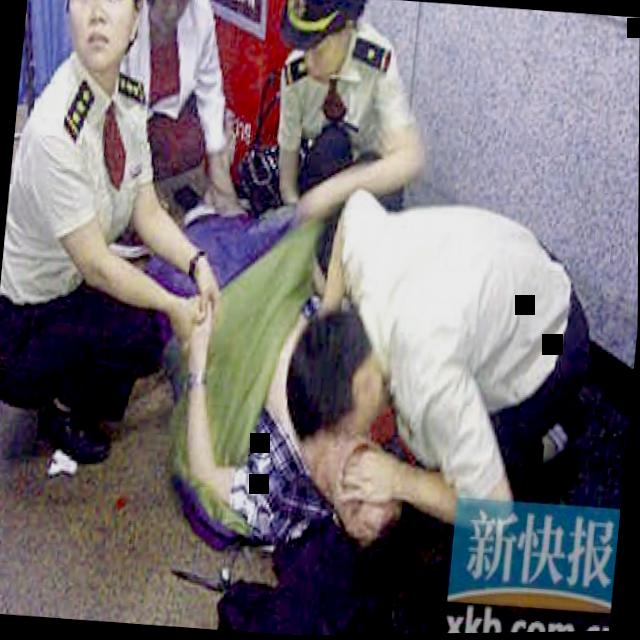Fall-Detected: (123, 141, 470, 639)
